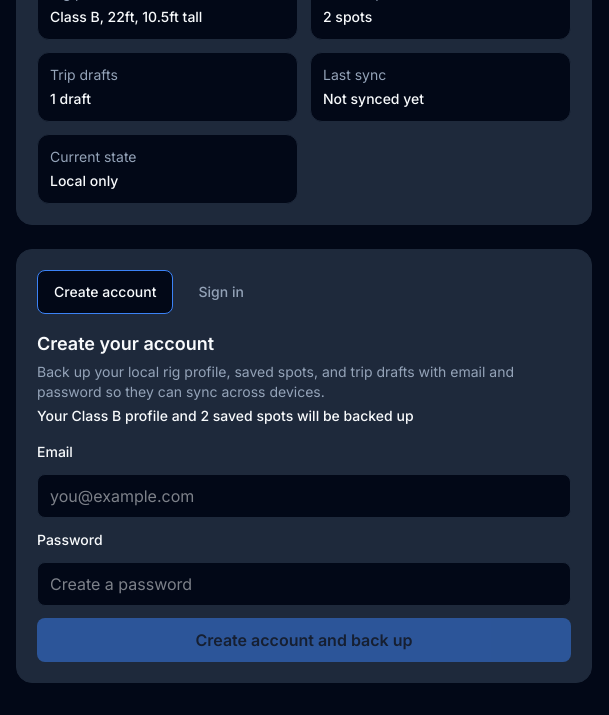
Test: AccountScreen › shows migration success count after account creation
The width and height of the screenshot is (609, 715).
(page scrolled)
Type "user@example.com" into the field labelled "Email".
click(304, 496); type("user@example.com")  # box x1=37 y1=474 x2=571 y2=518
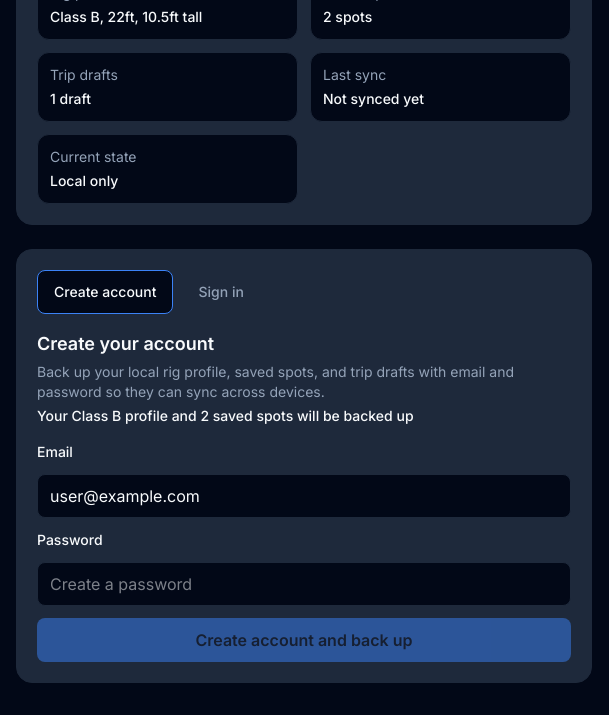
Type "password123" into the password field labelled "Password".
click(304, 584); type("password123")  # box x1=37 y1=562 x2=571 y2=606
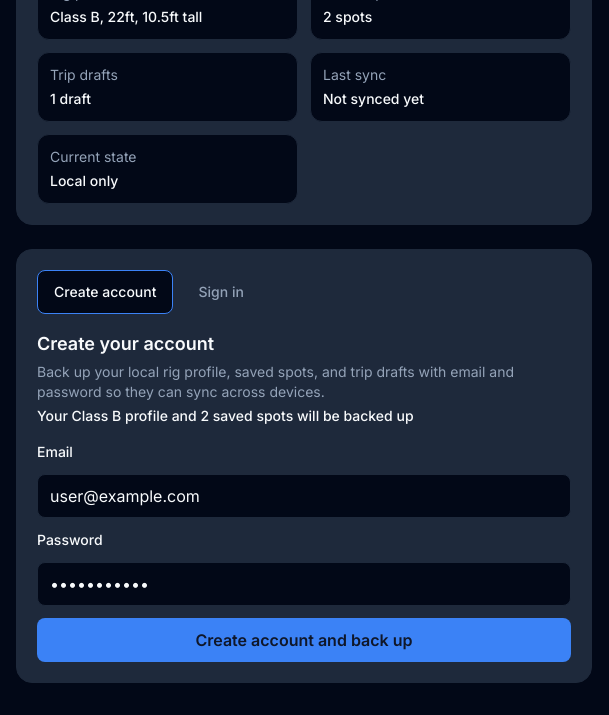
Submit the form "Email Password Create account and back up", box x1=37 y1=442 x2=571 y2=662
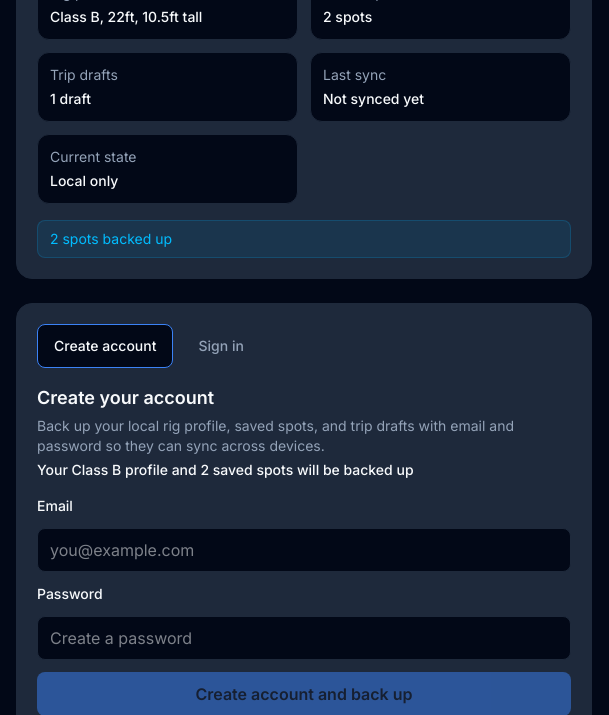
Check: the message reads "2 spots backed up", box x1=50 y1=230 x2=172 y2=247
